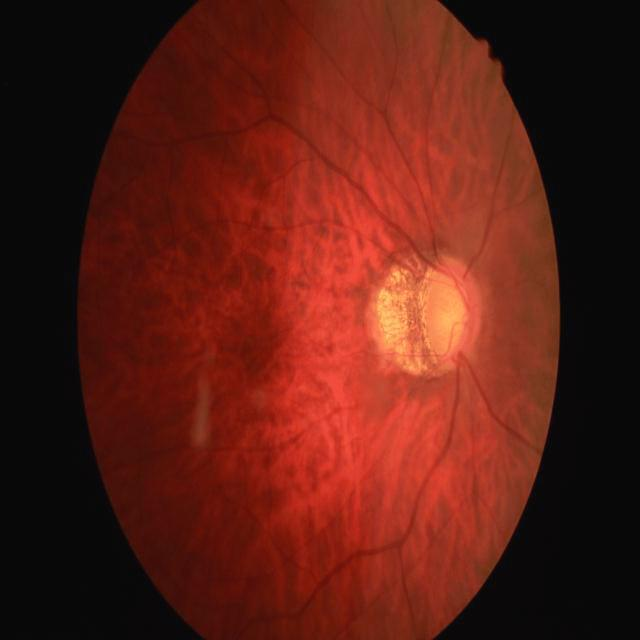cup: (428, 270, 474, 356)
disk: (424, 255, 484, 368)
